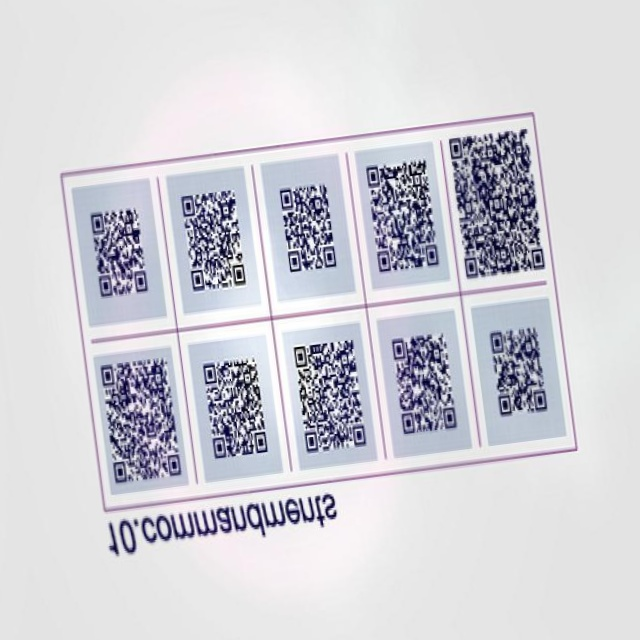qr-code: (449, 129, 544, 279), (100, 360, 180, 483), (294, 342, 366, 454), (366, 161, 438, 272), (203, 359, 268, 459), (391, 335, 456, 435), (181, 193, 246, 292), (89, 209, 148, 300), (280, 185, 336, 272), (490, 330, 546, 417)
